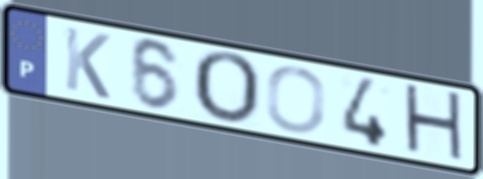4: (339, 74, 392, 151)
6: (128, 37, 187, 113)
H: (401, 80, 468, 168)
K: (62, 23, 113, 103)
O: (189, 49, 264, 129), (263, 64, 328, 135)
